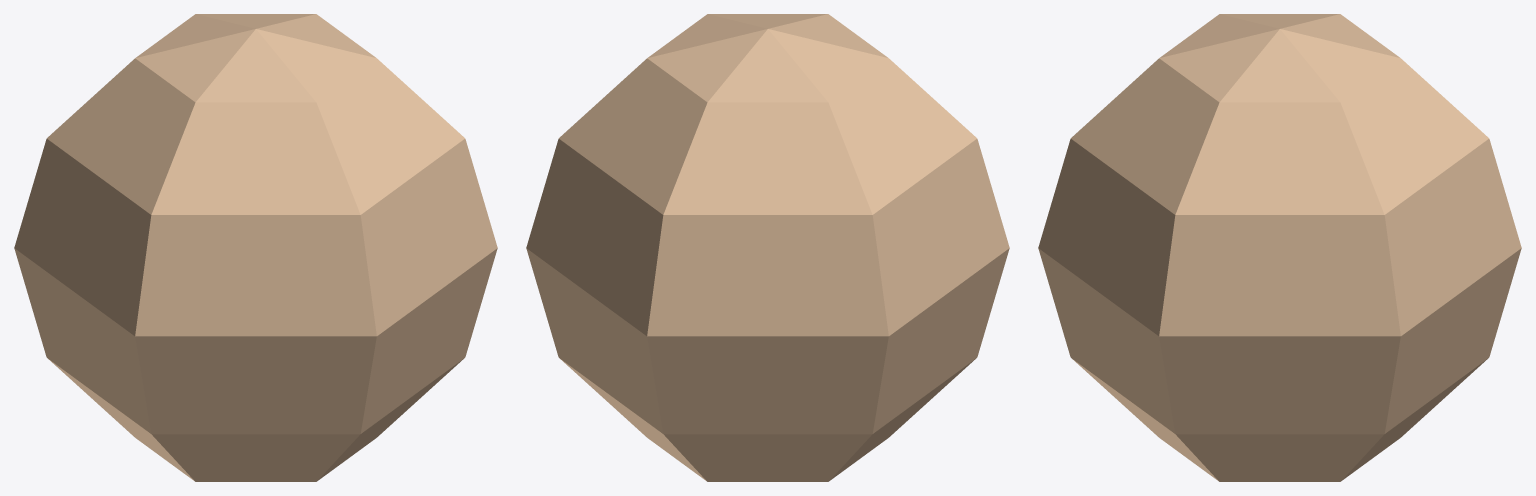
3 renders of one model, left to right at view 1: azimuth 30°, elevation 25°; view 2: azimuth 150°, elevation 25°; view 3: azimuth 270°, elevation 25°, orthographic.
Parts seen in each view (by area): view 1: Bullet_Sphere.003; view 2: Bullet_Sphere.003; view 3: Bullet_Sphere.003.
Boxes of the visible parts, x1,y1,x2,y2 form: Bullet_Sphere.003: [14, 14, 497, 481]; Bullet_Sphere.003: [526, 14, 1009, 481]; Bullet_Sphere.003: [1038, 14, 1521, 481].
Size of the model in its own units: 0.4951 by 0.5717 by 0.5717.
